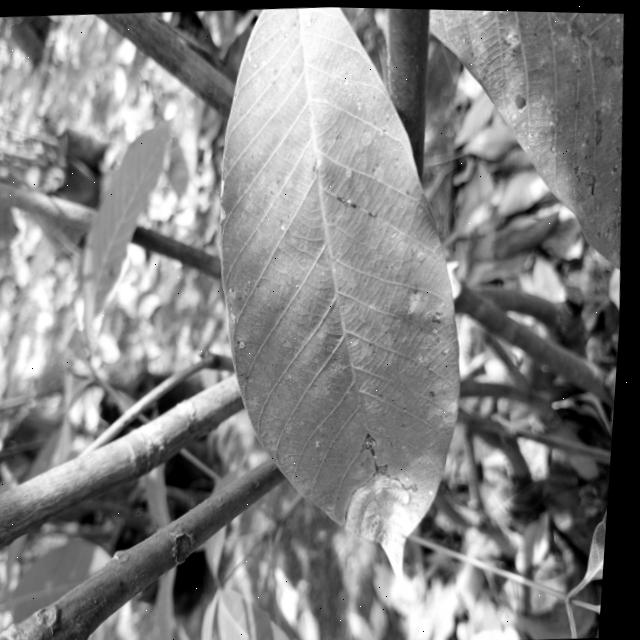Colletotrichum: (284, 29, 289, 36), (249, 374, 253, 378), (236, 287, 238, 291)
Leaf-Blight: (345, 462, 435, 586)
